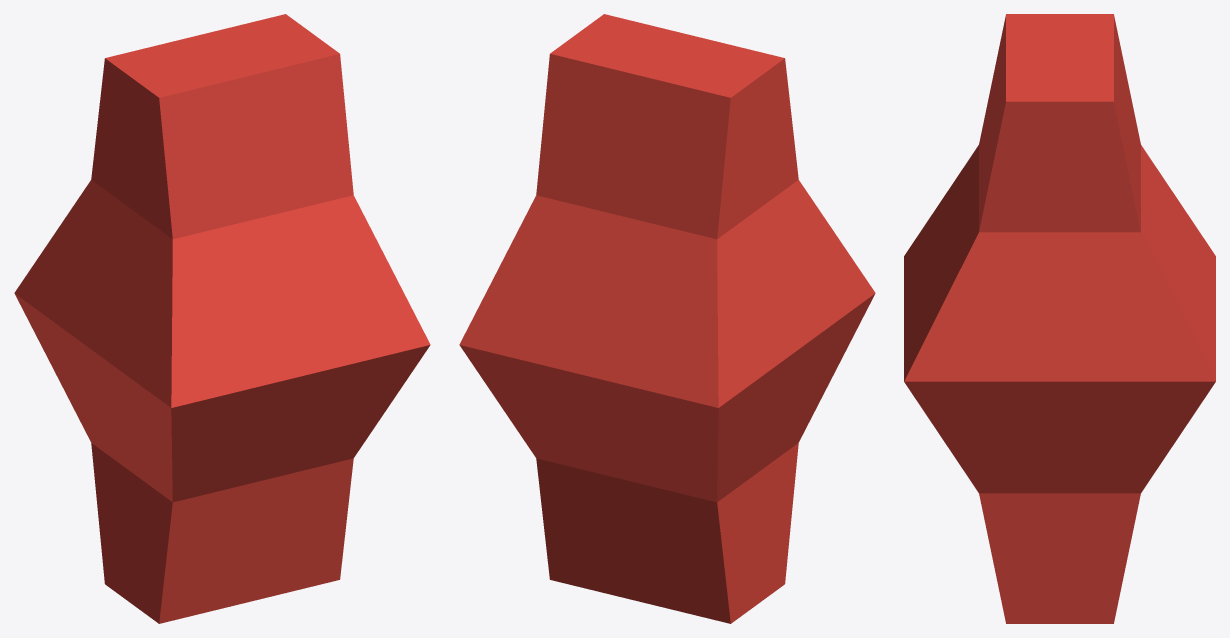
Rendered from Gato.fbx.
The picture shows the model from 3 angles, left to right: view 1: azimuth 30°, elevation 25°; view 2: azimuth 150°, elevation 25°; view 3: azimuth 270°, elevation 25°; orthographic projection.
Parts seen in each view (by area): view 1: Gato; view 2: Gato; view 3: Gato.
Part boxes in pixels (left/top/right/bottom): Gato: left=14, top=14, right=430, bottom=623; Gato: left=459, top=14, right=875, bottom=623; Gato: left=904, top=14, right=1215, bottom=623.
Size of the model in its own units: 71.41 by 138 by 74.92.
